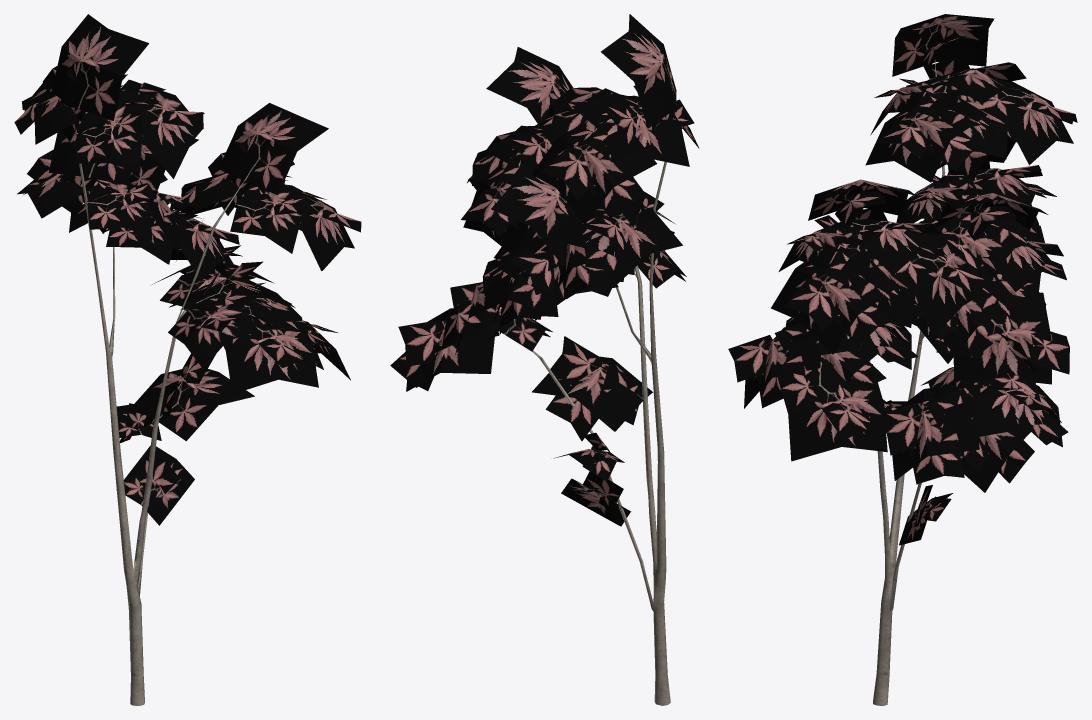
The model's file is Maple_Leaf.fbx.
3 views of the same model, side by side, from view 1: azimuth 30°, elevation 25°; view 2: azimuth 150°, elevation 25°; view 3: azimuth 270°, elevation 25° (orthographic). The views are drawn at different scales.
Parts seen in each view (by area): view 1: Maple_Leaf_Leaves_B, Maple_Leaf_Leaves_A, Maple_Leaf_Stem; view 2: Maple_Leaf_Leaves_B, Maple_Leaf_Leaves_A, Maple_Leaf_Stem; view 3: Maple_Leaf_Leaves_A, Maple_Leaf_Leaves_B, Maple_Leaf_Stem.
Boxes of the visible parts, x1,y1,x2,y2 form: Maple_Leaf_Leaves_B: (14,14,361,525); Maple_Leaf_Leaves_A: (17,28,353,525); Maple_Leaf_Stem: (79,163,247,705); Maple_Leaf_Leaves_B: (401,14,698,526); Maple_Leaf_Leaves_A: (390,14,699,526); Maple_Leaf_Stem: (532,162,670,705); Maple_Leaf_Leaves_A: (734,14,1073,544); Maple_Leaf_Leaves_B: (728,15,1077,545); Maple_Leaf_Stem: (869,60,988,705).
Bounding box in the file's own units: 2.57 × 6.16 × 2.83.
